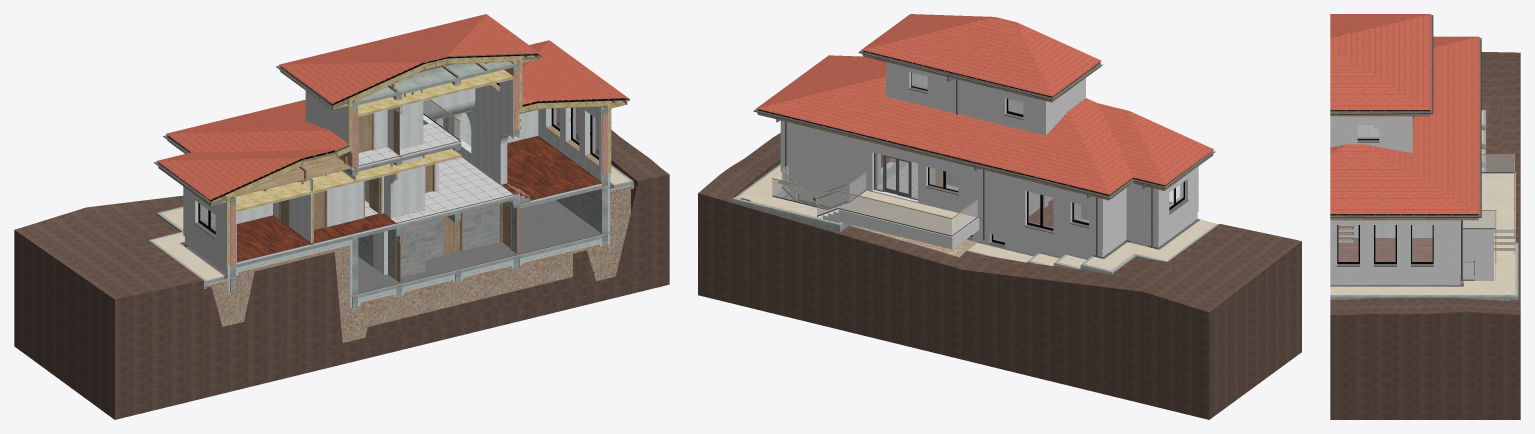
Rendered from detaliat-a.glb.
The picture shows the model from 3 angles, left to right: view 1: azimuth 30°, elevation 25°; view 2: azimuth 150°, elevation 25°; view 3: azimuth 270°, elevation 25°; orthographic projection. The views are drawn at different scales.
Visible parts, largest first — view 1: Model; view 2: Model; view 3: Model.
Part boxes in pixels (x1,y1,x2,y2): Model: [14, 14, 669, 419]; Model: [698, 14, 1301, 419]; Model: [1330, 14, 1520, 419].
Bounding box in the file's own units: 28.85 × 14.05 × 9.05.
Materials: 45 (28 with a texture image).
